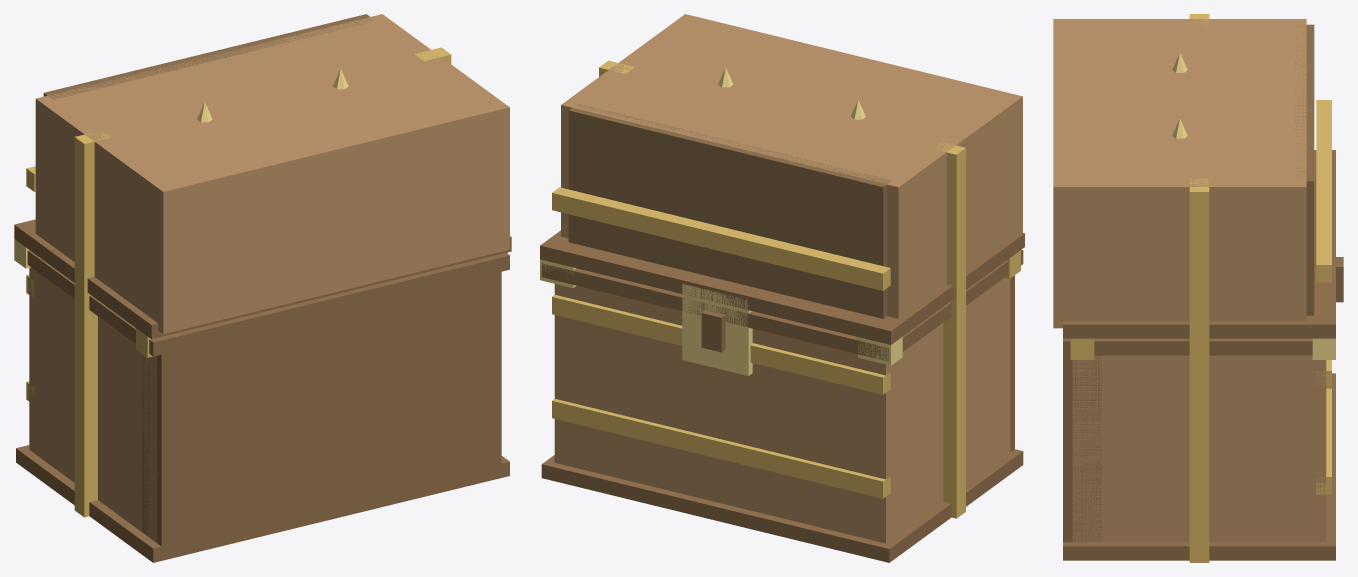
File: treasure_chest.glb
3 renders of one model, left to right at view 1: azimuth 30°, elevation 25°; view 2: azimuth 150°, elevation 25°; view 3: azimuth 270°, elevation 25°, orthographic. The views are drawn at different scales.
Parts seen in each view (by area): view 1: treasure_chest_root; view 2: treasure_chest_root; view 3: treasure_chest_root.
Boxes of the visible parts, left/top/right/bottom form: treasure_chest_root: left=14, top=14, right=511, bottom=562; treasure_chest_root: left=540, top=14, right=1024, bottom=562; treasure_chest_root: left=1053, top=14, right=1343, bottom=562.
Size of the model in its own units: 0.9818 by 1 by 0.6773.
